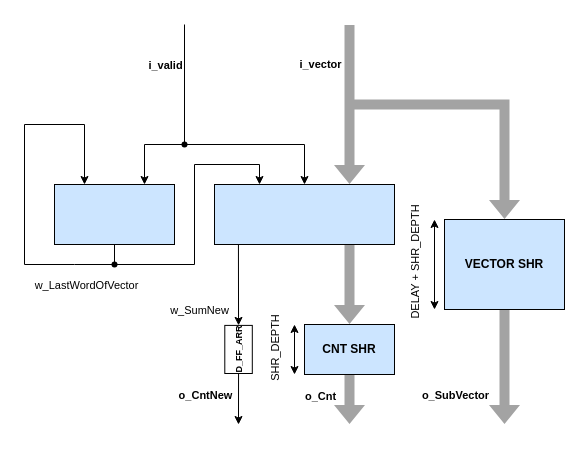
This 582x450 diagram has some shape labels left out. Here are the shapes that lost their labels. From the top down, the centre of each, then its label:
At (114,214): "DATA WORD COUNTER".
At (304,214): "BIT COUNTER MODULE".
